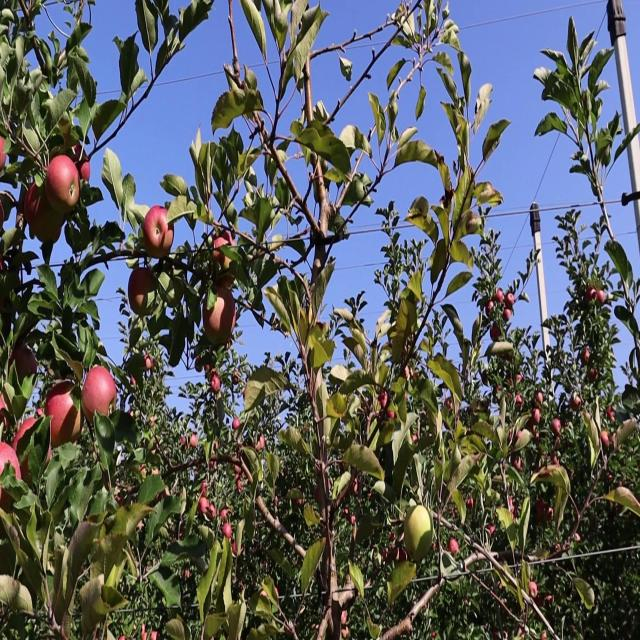apple: (24, 184, 64, 247), (44, 391, 82, 450), (204, 284, 237, 348), (24, 184, 60, 242), (48, 156, 80, 217), (84, 369, 118, 423), (144, 206, 176, 261), (12, 419, 36, 484), (128, 270, 157, 318), (36, 200, 64, 247), (0, 447, 20, 512), (408, 504, 433, 555), (24, 184, 47, 233), (12, 348, 39, 380), (4, 455, 19, 512), (212, 234, 233, 274), (332, 398, 348, 420), (0, 135, 8, 171), (584, 284, 596, 306), (396, 312, 408, 334), (536, 497, 546, 523), (532, 405, 541, 427), (448, 540, 460, 556), (528, 419, 539, 436), (596, 291, 607, 306), (552, 419, 563, 434), (488, 298, 496, 318), (572, 398, 583, 412), (584, 348, 592, 366), (600, 433, 609, 448), (496, 291, 505, 306), (608, 405, 616, 421), (492, 327, 501, 341), (516, 398, 525, 411), (536, 391, 544, 405)
